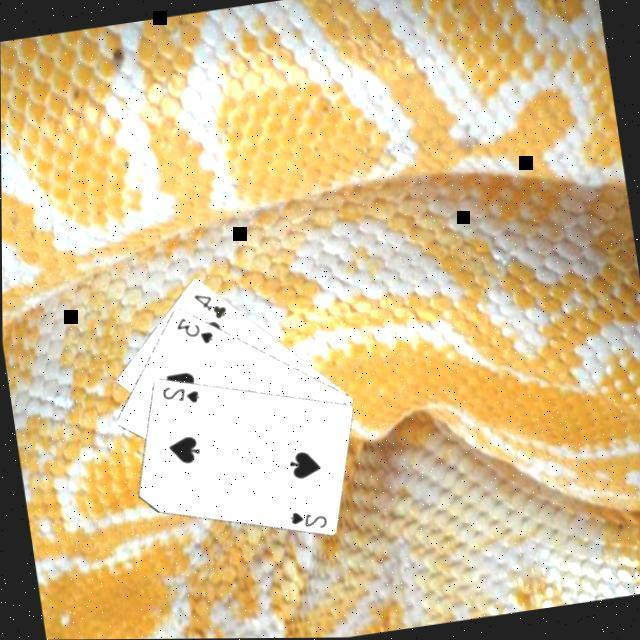2S: (284, 506, 329, 538), (157, 381, 202, 412)
3S: (170, 312, 216, 353)
4C: (190, 288, 230, 328)
